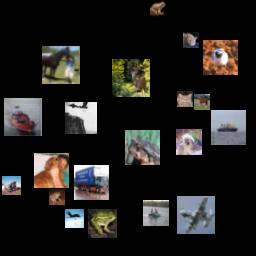airplane: (177, 196, 215, 234), (65, 102, 97, 134), (65, 209, 84, 228)
bird: (203, 40, 238, 75)
cat: (177, 91, 193, 107), (183, 32, 199, 48)
deer: (112, 59, 150, 97)
dog: (34, 153, 69, 188), (176, 129, 202, 155)
frog: (125, 130, 160, 165), (88, 209, 117, 238), (150, 1, 166, 17), (49, 189, 65, 205)
ship: (4, 98, 42, 136), (211, 110, 246, 145), (143, 200, 169, 226)
truck: (74, 165, 109, 200), (2, 176, 21, 195)
